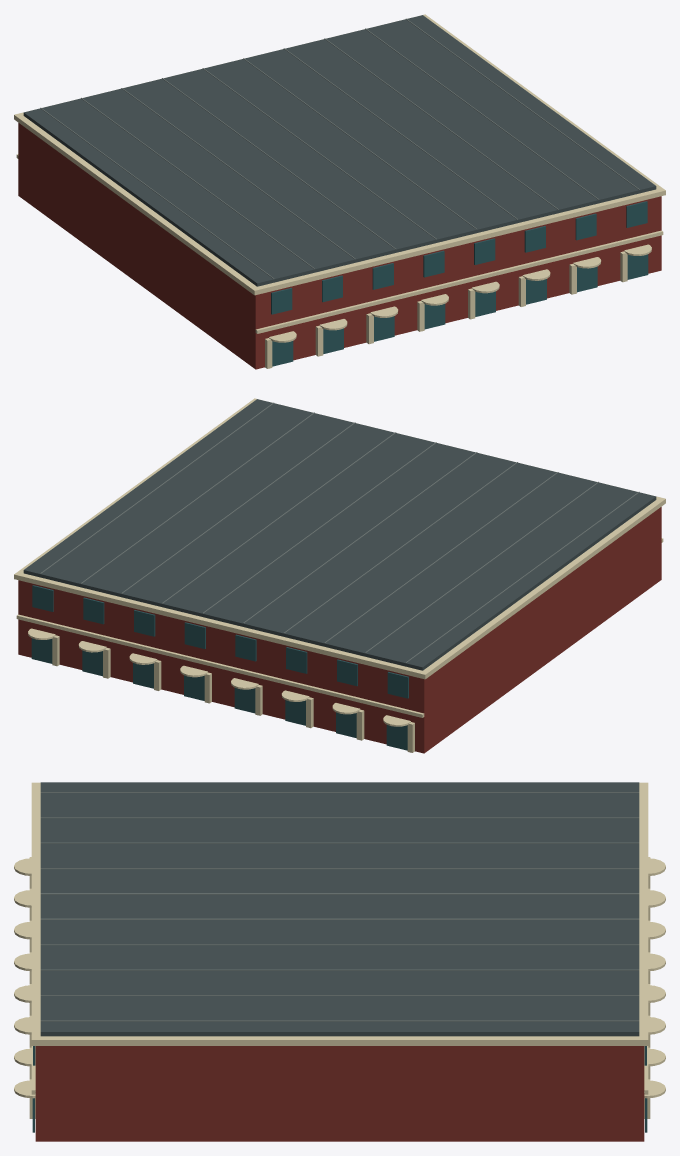
3 views of the same model, one above another, from view 1: azimuth 30°, elevation 25°; view 2: azimuth 150°, elevation 25°; view 3: azimuth 270°, elevation 25° (orthographic). The views are drawn at different scales.
Visible parts, largest first — view 1: RoofDeck, HallMass, Parapet, RoofSeams, UpperWindows, ArcadeRecess, StoreyCornice, ArcadePiers, ArcadeArch; view 2: RoofDeck, HallMass, Parapet, RoofSeams, UpperWindows, ArcadeRecess, StoreyCornice, ArcadePiers, ArcadeArch; view 3: RoofDeck, HallMass, Parapet, RoofSeams, ArcadeArch, ArcadePiers.
Part boxes in pixels (x1,y1,x2,y2): RoofDeck: [23, 15, 656, 286]; HallMass: [18, 123, 661, 369]; Parapet: [14, 14, 665, 295]; RoofSeams: [40, 18, 639, 278]; UpperWindows: [271, 201, 647, 314]; ArcadeRecess: [272, 254, 648, 366]; StoreyCornice: [16, 154, 663, 333]; ArcadePiers: [265, 251, 627, 368]; ArcadeArch: [269, 244, 651, 342]; RoofDeck: [23, 399, 656, 670]; HallMass: [18, 507, 661, 753]; Parapet: [14, 398, 665, 679]; RoofSeams: [40, 402, 639, 662]; UpperWindows: [32, 585, 408, 698]; ArcadeRecess: [31, 638, 407, 750]; StoreyCornice: [16, 538, 663, 717]; ArcadePiers: [52, 635, 414, 752]; ArcadeArch: [28, 628, 410, 726]; RoofDeck: [40, 782, 639, 1036]; HallMass: [35, 1046, 644, 1141]; Parapet: [31, 782, 648, 1045]; RoofSeams: [40, 792, 639, 1021]; ArcadeArch: [14, 858, 665, 1098]; ArcadePiers: [29, 857, 650, 1118].
Size of the model in its own units: 60.51 by 11.89 by 64.81.
